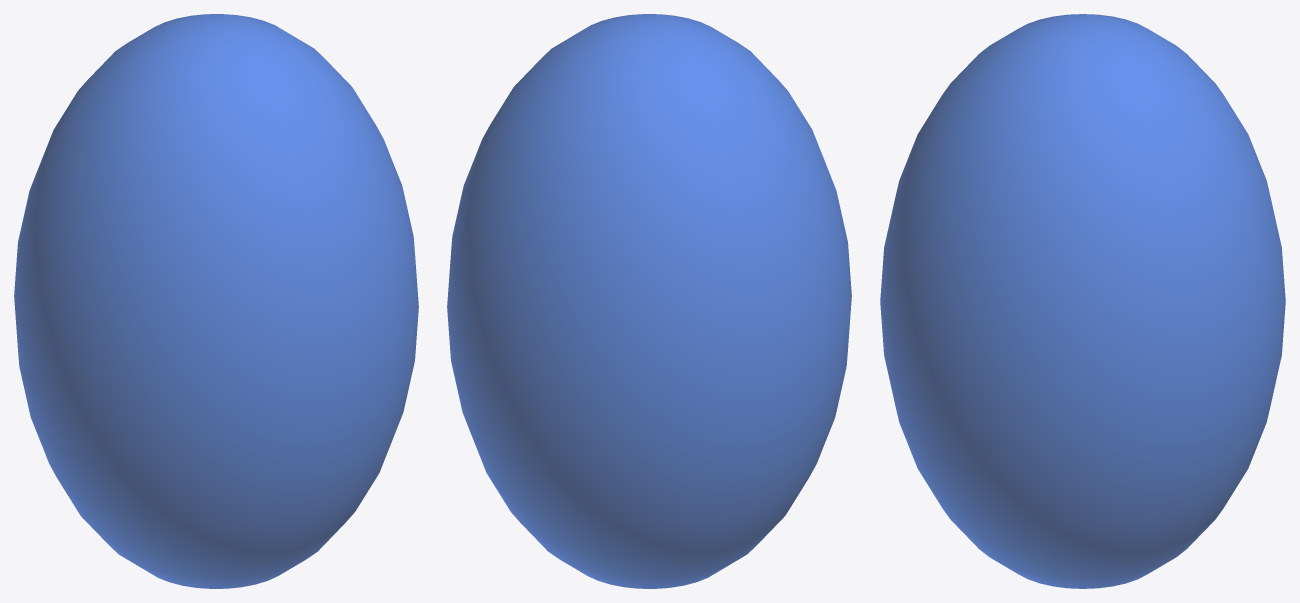
The model's file is egg_c1.glb.
3 renders of one model, left to right at view 1: azimuth 30°, elevation 25°; view 2: azimuth 150°, elevation 25°; view 3: azimuth 270°, elevation 25°, orthographic.
Parts seen in each view (by area): view 1: egg1_1; view 2: egg1_1; view 3: egg1_1.
Part boxes in pixels (x1,y1,x2,y2): egg1_1: (14,14,418,588); egg1_1: (447,14,851,588); egg1_1: (880,14,1285,588).
Size of the model in its own units: 0.8 by 1.2 by 0.8.
